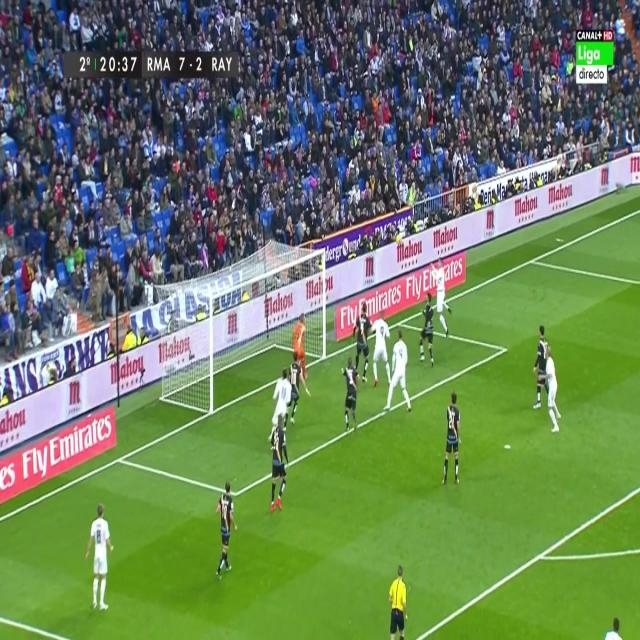Goalkeeper: (292, 309, 310, 388)
Player: (85, 502, 114, 612), (212, 480, 239, 585), (384, 332, 414, 417), (268, 416, 290, 517), (442, 391, 464, 488), (430, 258, 454, 338), (531, 321, 549, 412), (373, 314, 393, 394), (544, 347, 562, 435), (352, 303, 371, 385), (290, 354, 310, 425), (342, 361, 361, 433), (269, 368, 292, 426), (418, 295, 436, 368)
Referee: (386, 563, 411, 640)
